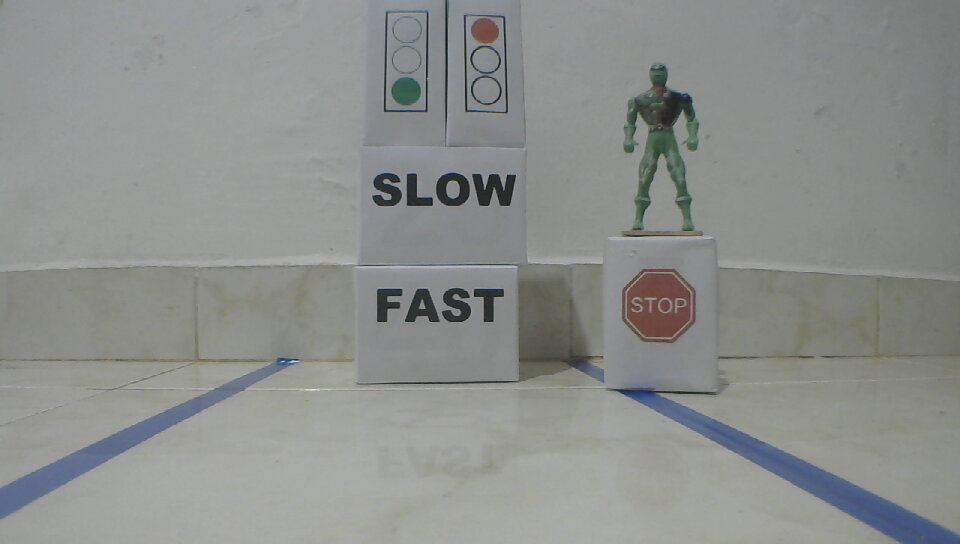Fast: (375, 286, 508, 324)
Green Traffic Light: (381, 8, 431, 115)
Person: (620, 62, 704, 235)
Red Traffic Light: (461, 12, 512, 116)
Slow: (371, 171, 518, 208)
Stop Sign: (620, 269, 698, 345)
